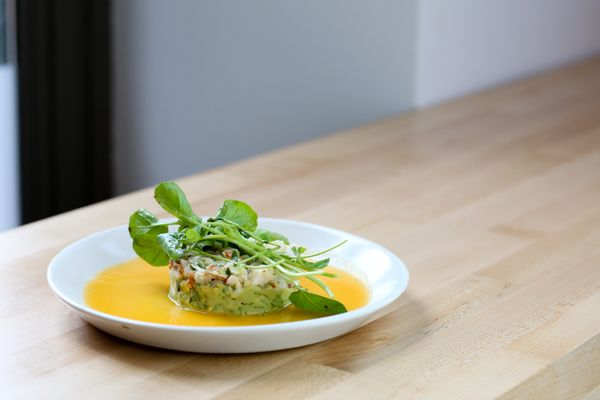sushi: (48, 197, 410, 353)
